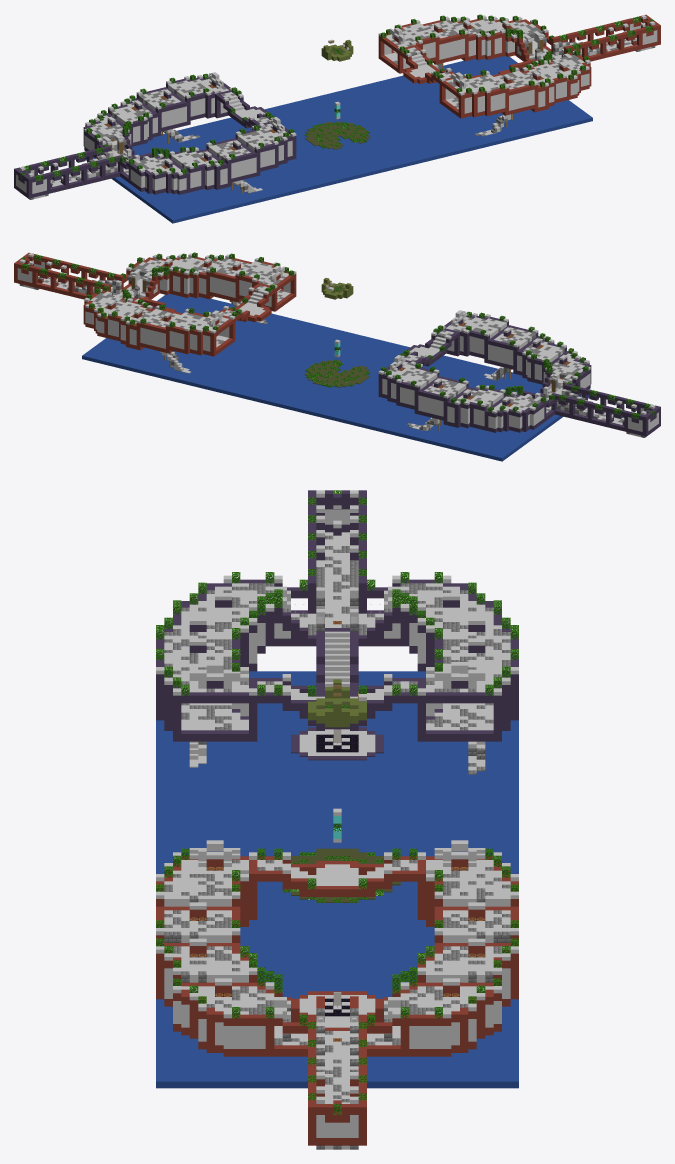
Rendered from minecraft.obj.
3 renders of one model, top to bottom at view 1: azimuth 30°, elevation 25°; view 2: azimuth 150°, elevation 25°; view 3: azimuth 270°, elevation 25°, orthographic. The views are drawn at different scales.
Bounding box in the file's own units: 173 × 25 × 43.
